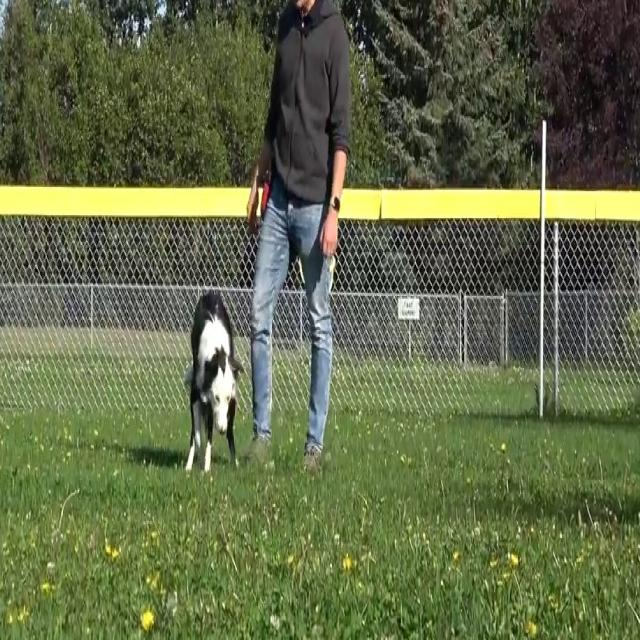Unleashed_Dog: (182, 204, 317, 477)
